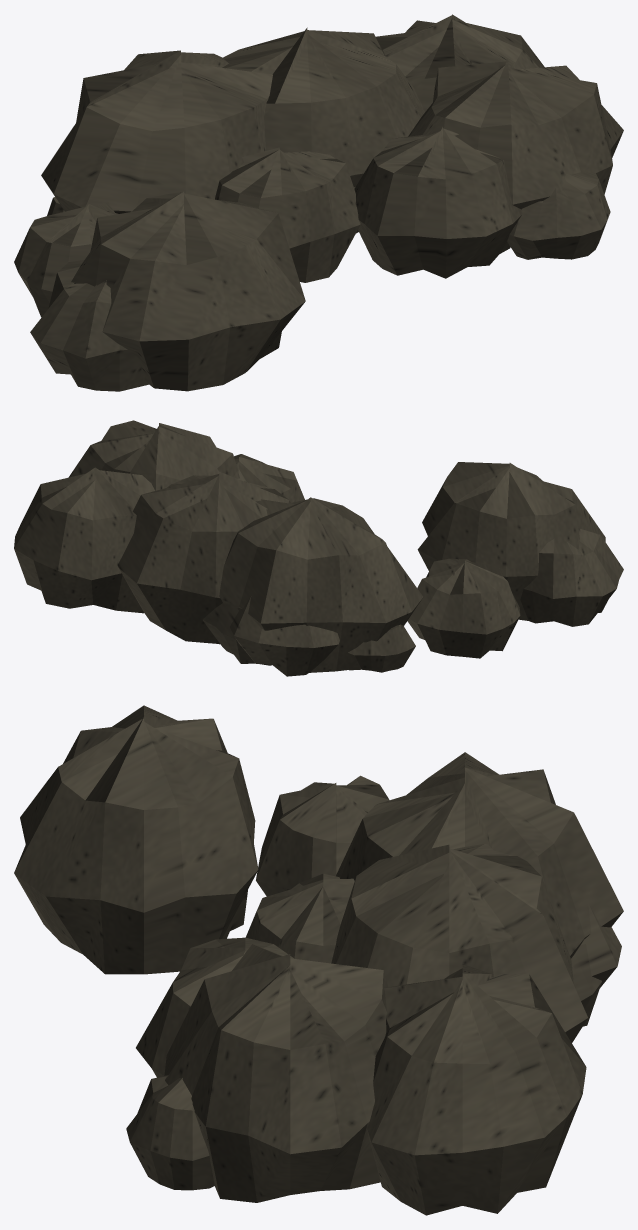
The model's file is PROP-43CEDB2E4D55_lod0.glb.
3 views of the same model, one above another, from view 1: azimuth 30°, elevation 25°; view 2: azimuth 150°, elevation 25°; view 3: azimuth 270°, elevation 25° (orthographic). The views are drawn at different scales.
Parts seen in each view (by area): view 1: rock.008; view 2: rock.008; view 3: rock.008.
Part boxes in pixels (x1,y1,x2,y2): rock.008: (14, 14, 623, 391); rock.008: (14, 420, 623, 676); rock.008: (14, 705, 623, 1215).
Size of the model in its own units: 1.67 by 0.4592 by 1.09.
1 material, 1 textured.
